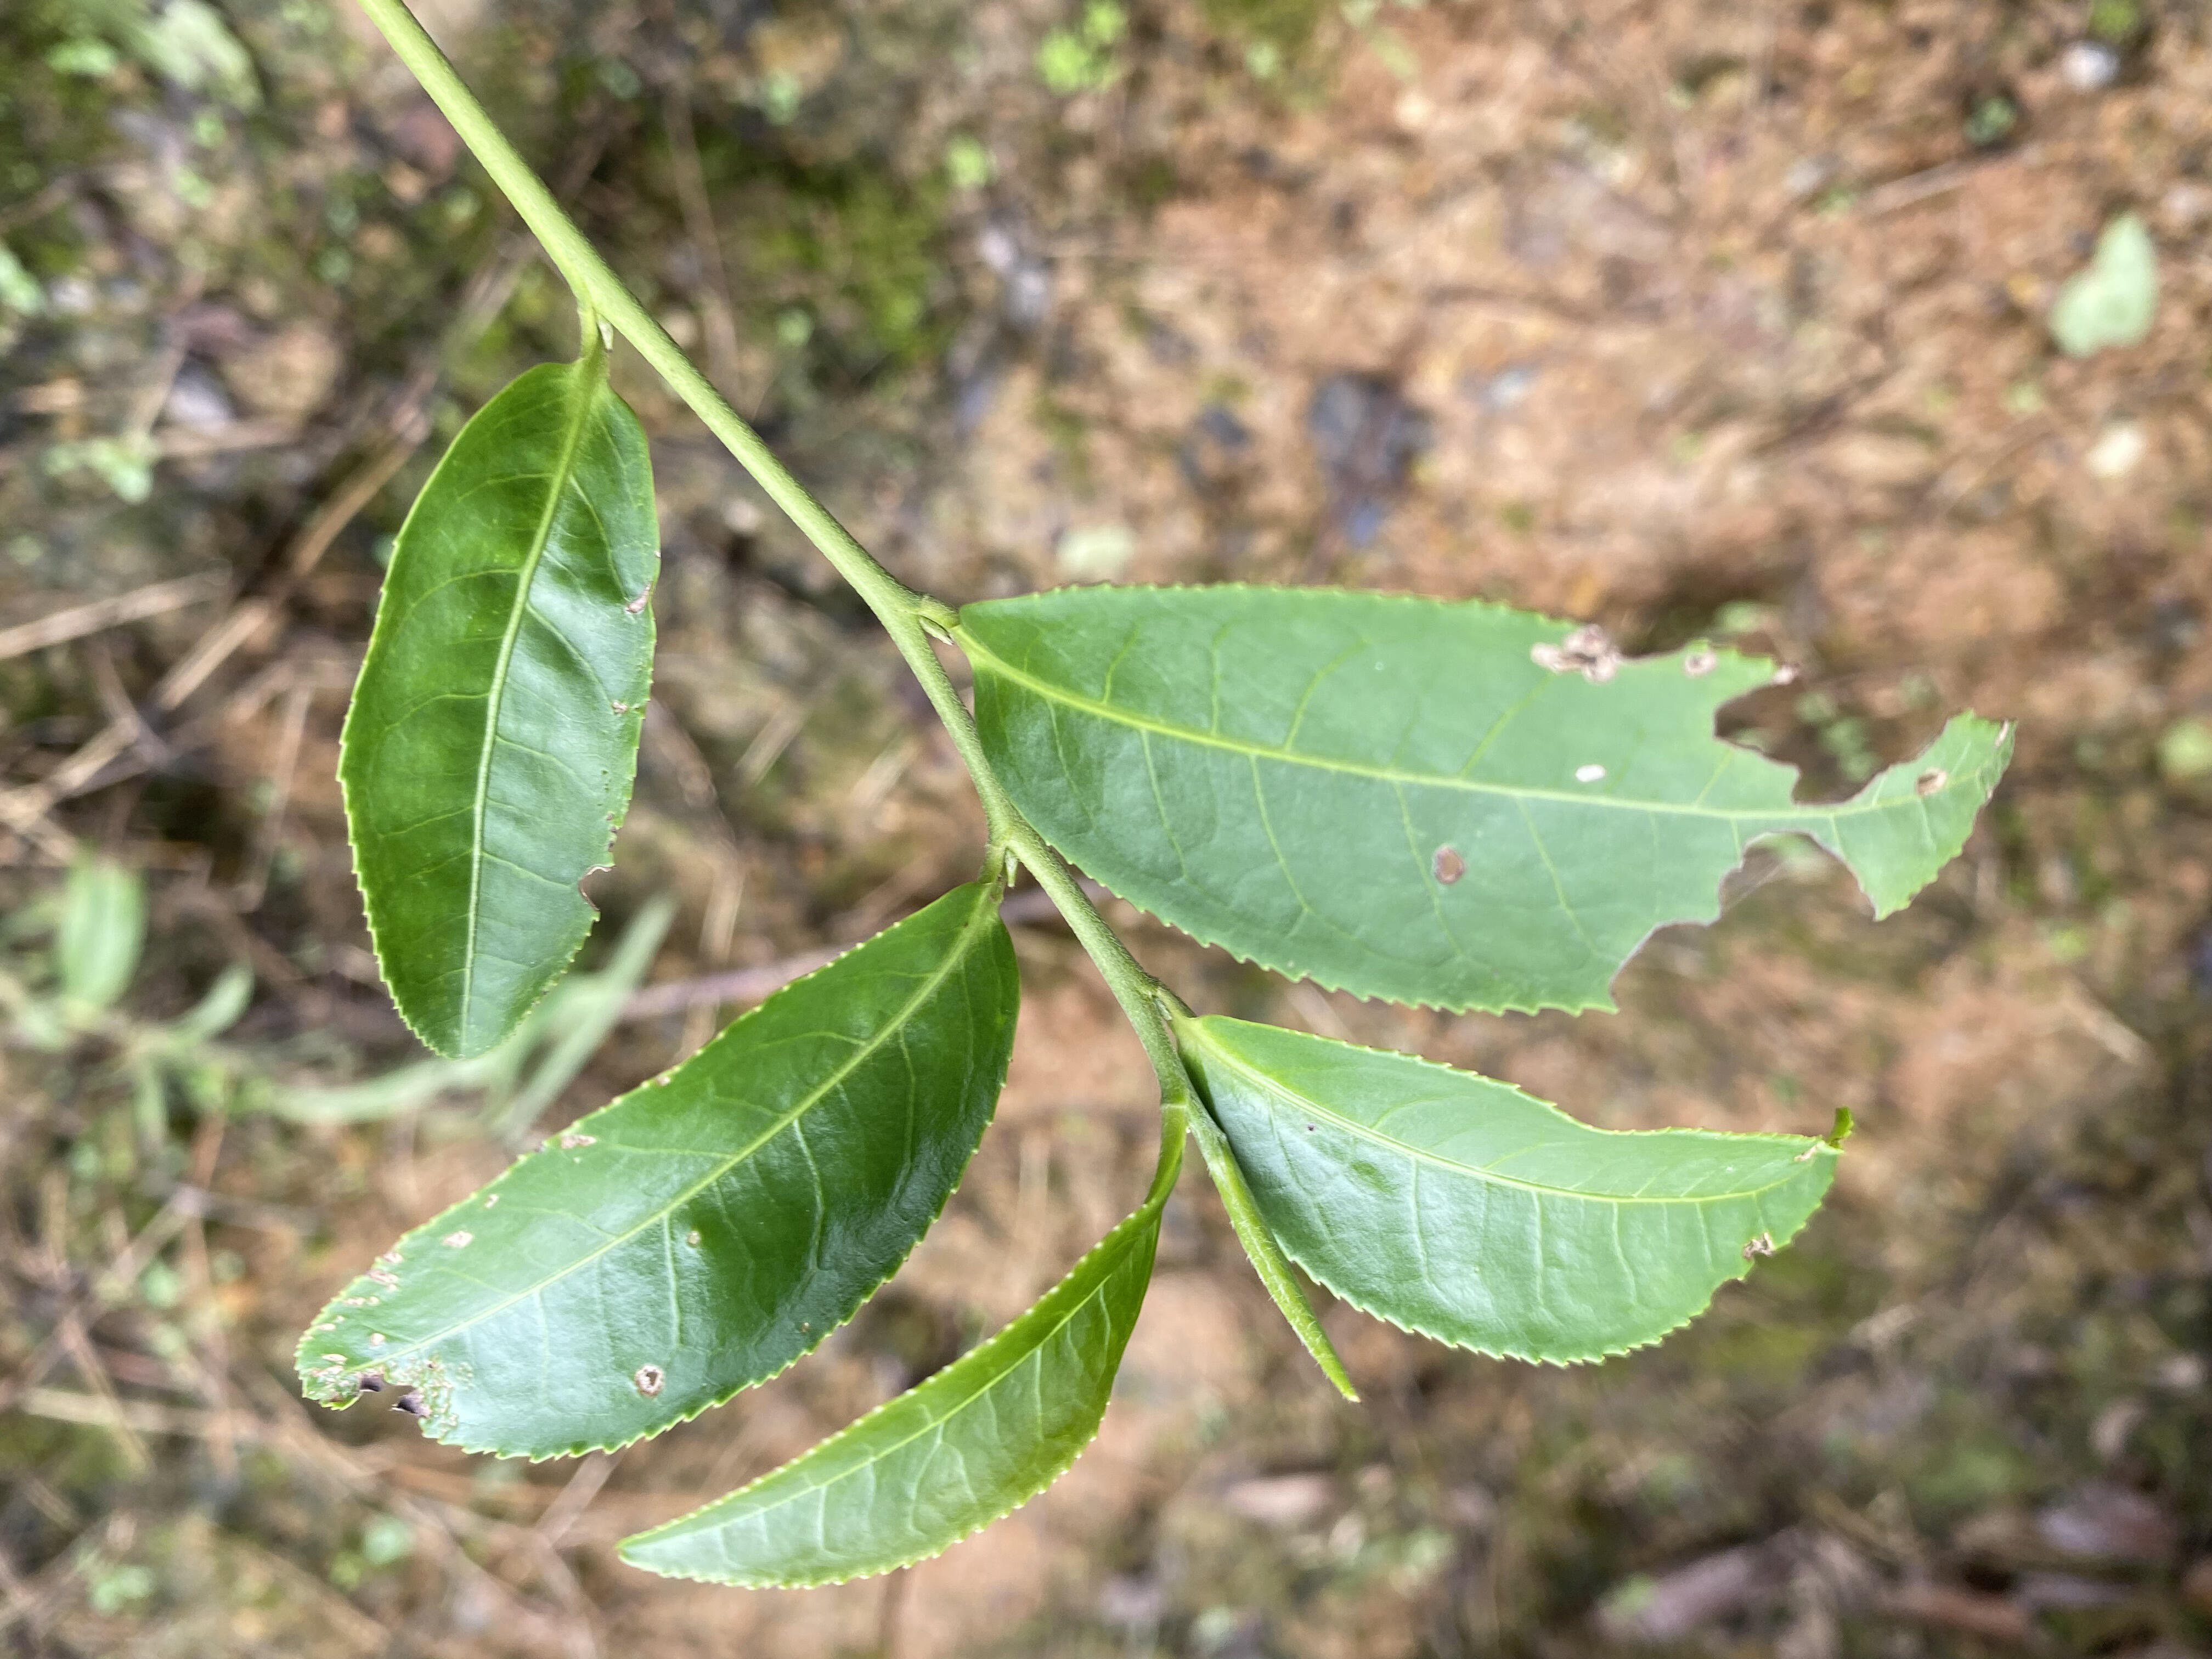chihuo_high: (960, 580, 2017, 1019)
chihuo_low: (289, 884, 1024, 1460), (336, 354, 662, 1061)
healthy: (613, 1145, 1186, 1595)
tanju_low: (1183, 1009, 1857, 1370)
